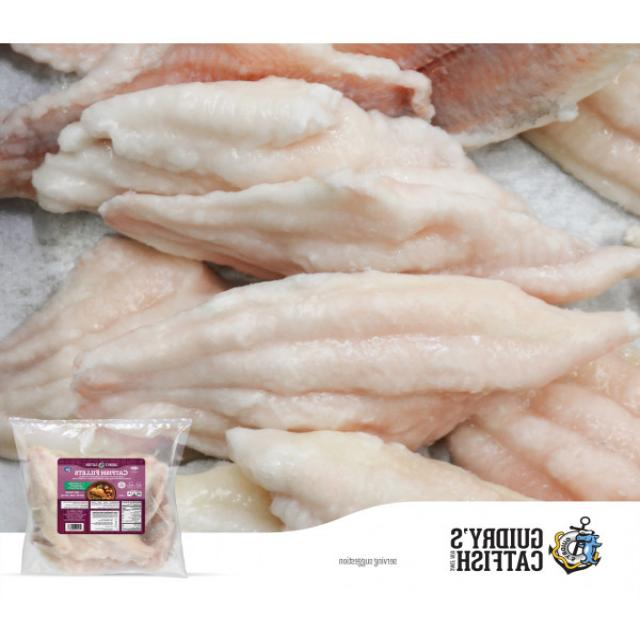Catfish: (13, 54, 636, 422)
